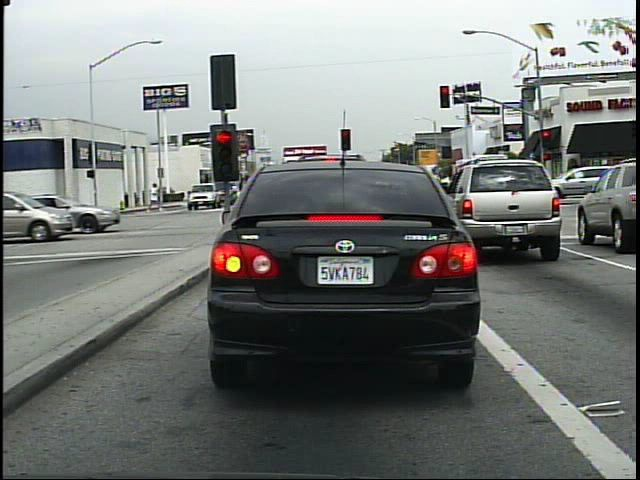person: (144, 180, 165, 217)
